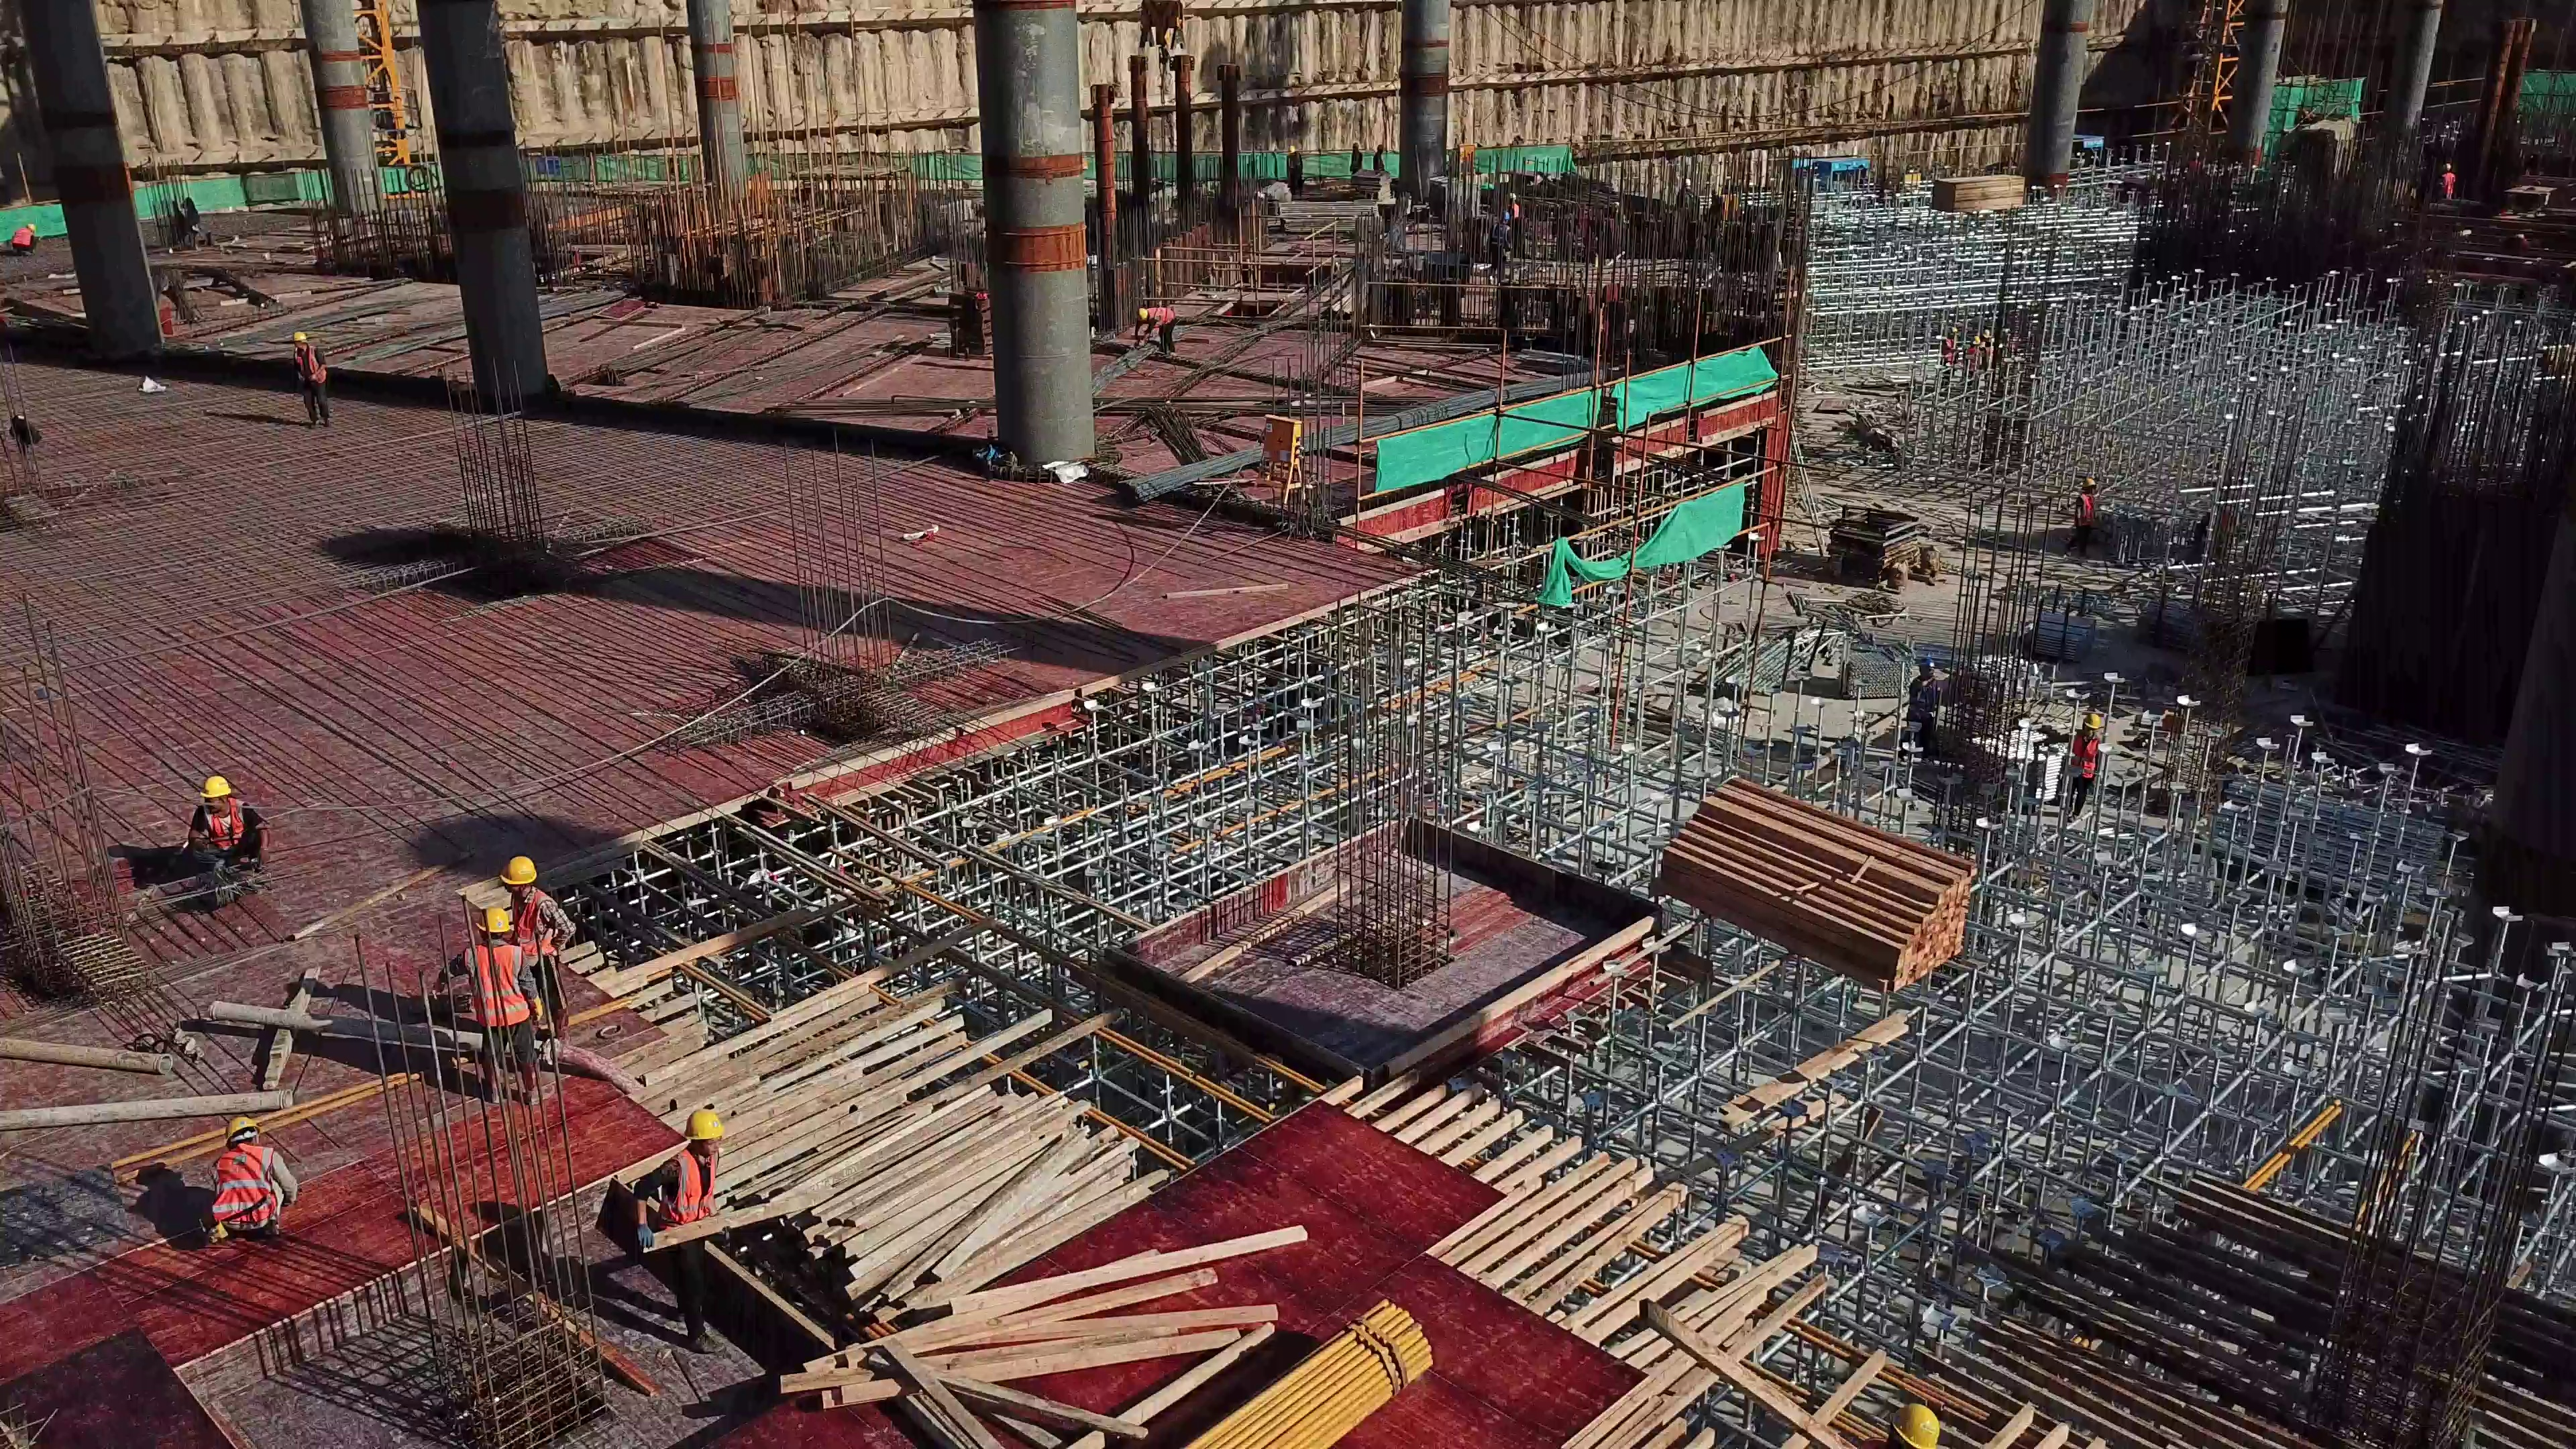helmet: (1890, 1405, 1941, 1448), (500, 853, 537, 887), (686, 1106, 722, 1139), (474, 908, 513, 934), (227, 1118, 260, 1142), (199, 775, 231, 798), (1917, 658, 1938, 677), (2086, 710, 2100, 729), (1136, 306, 1148, 321), (292, 329, 304, 341), (2080, 480, 2095, 489), (30, 223, 38, 233), (2444, 162, 2453, 170), (1286, 144, 1294, 152)
person: (428, 908, 552, 1107), (631, 1107, 727, 1360), (500, 855, 574, 1059), (201, 1116, 302, 1239), (187, 775, 272, 880), (2063, 713, 2101, 826), (1900, 657, 1938, 769), (292, 331, 331, 424), (2063, 478, 2096, 559), (1132, 305, 1177, 356), (1489, 210, 1513, 281), (1963, 337, 1982, 396), (1941, 325, 1956, 394), (1287, 144, 1305, 193), (9, 222, 39, 253), (1507, 189, 1521, 244), (2440, 161, 2458, 204), (1978, 330, 1994, 370), (1348, 143, 1361, 182), (1372, 143, 1385, 174)
vest: (464, 942, 529, 1026), (212, 1145, 278, 1220), (663, 1146, 714, 1232), (512, 892, 553, 957), (203, 800, 245, 843), (296, 346, 328, 384), (2072, 732, 2095, 782), (1912, 680, 1933, 719), (1150, 307, 1172, 328), (13, 227, 32, 248), (2078, 494, 2091, 524), (1494, 222, 1507, 246), (1943, 339, 1951, 363)
